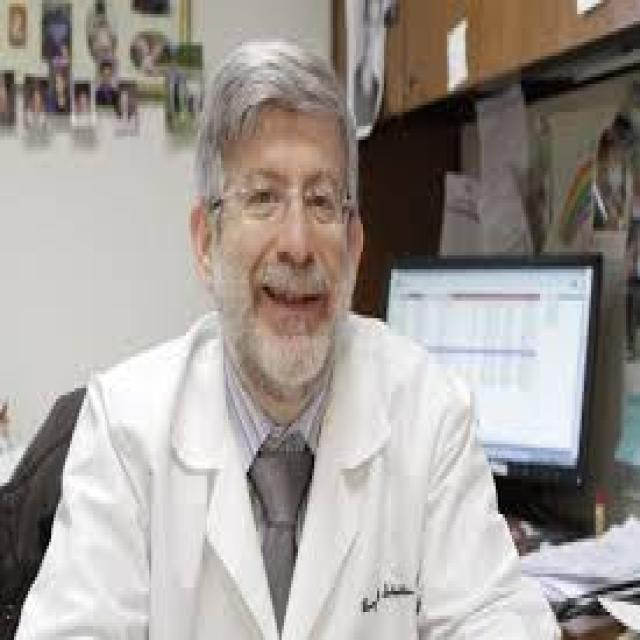normal_face: (188, 49, 406, 426)
